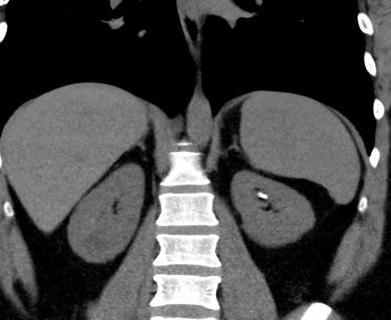Tas_Var: (260, 194, 268, 199), (258, 191, 262, 196)
